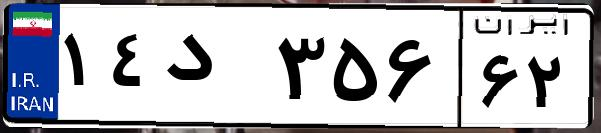1: (57, 26, 110, 100)
2: (525, 38, 570, 115)
3: (270, 28, 330, 110)
4: (110, 28, 158, 98)
5: (330, 28, 385, 110)
6: (385, 28, 445, 110), (475, 38, 525, 113)
د: (158, 20, 270, 120)
